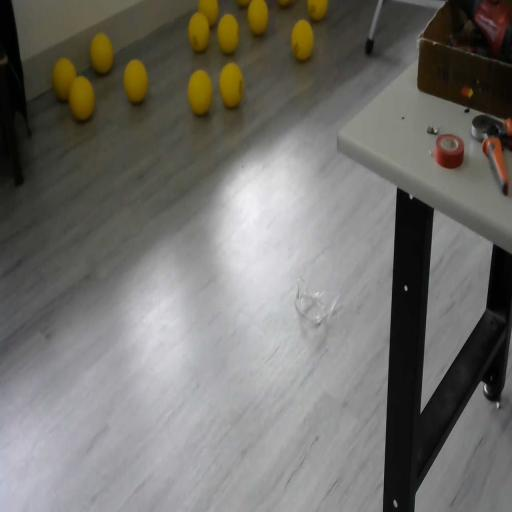FUEL: (187, 67, 214, 116), (122, 58, 150, 104), (218, 60, 244, 108), (52, 56, 78, 102), (90, 31, 114, 75), (216, 11, 240, 54), (290, 19, 314, 61), (247, 0, 269, 35), (198, 0, 219, 28), (307, 0, 328, 21)
